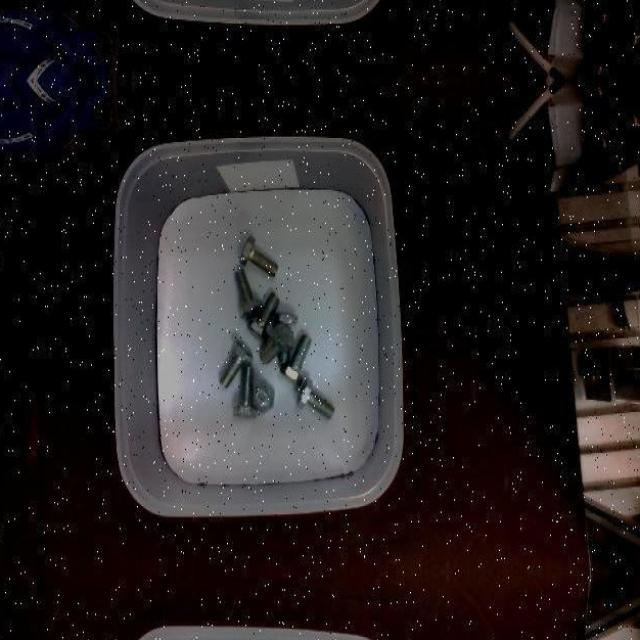screw: (220, 337, 254, 388), (281, 332, 312, 386), (248, 290, 280, 342), (296, 378, 336, 419), (240, 235, 279, 276), (260, 321, 296, 363), (235, 268, 263, 319), (233, 365, 258, 418), (253, 381, 274, 414)
